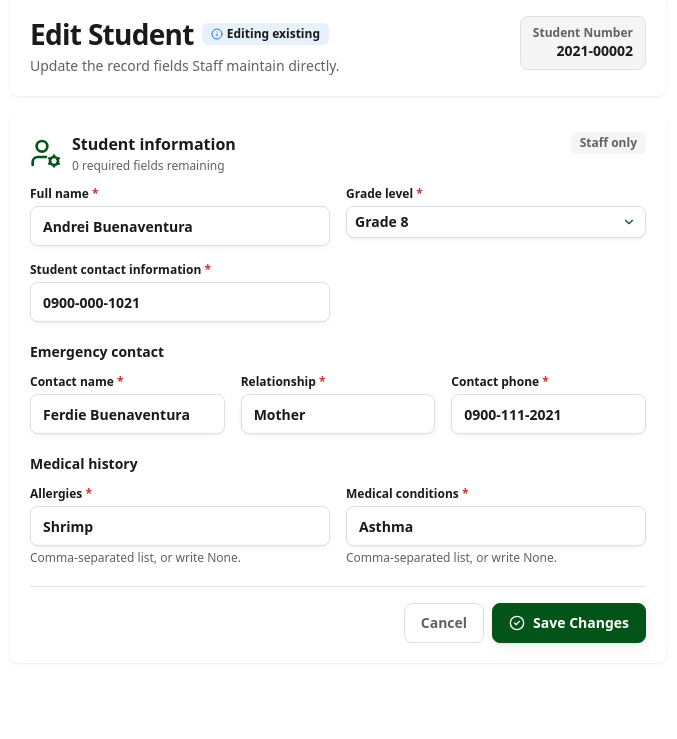
Scenario: Student Form › supports edit mode and records an update audit entry
The width and height of the screenshot is (677, 739).
Check: the heading "Edit Student" is shown, box [30, 16, 194, 52]
Replace the text in the field labelled "Student contact information *" with "09XX-999-0000" at (180, 302), box [30, 282, 330, 322]
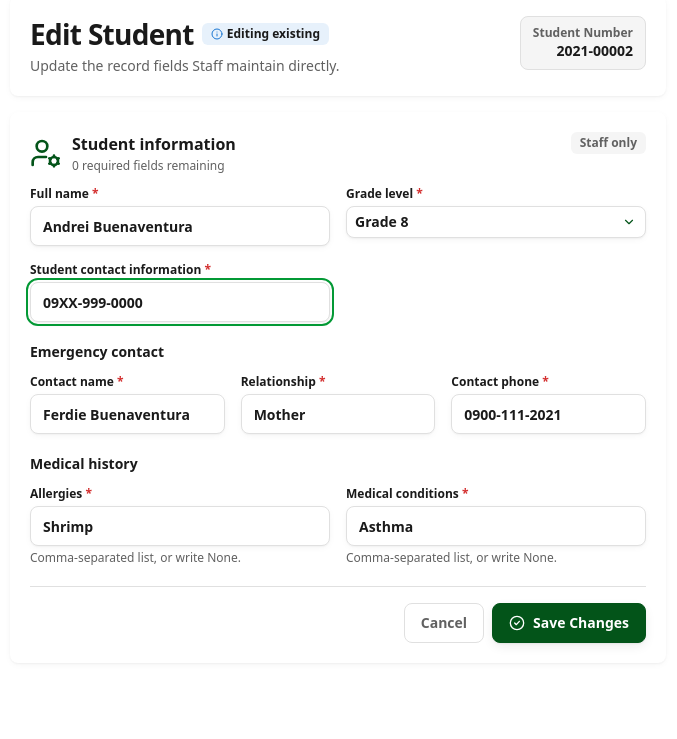
Click the button "Save Changes" at (569, 623), box [492, 603, 646, 643]
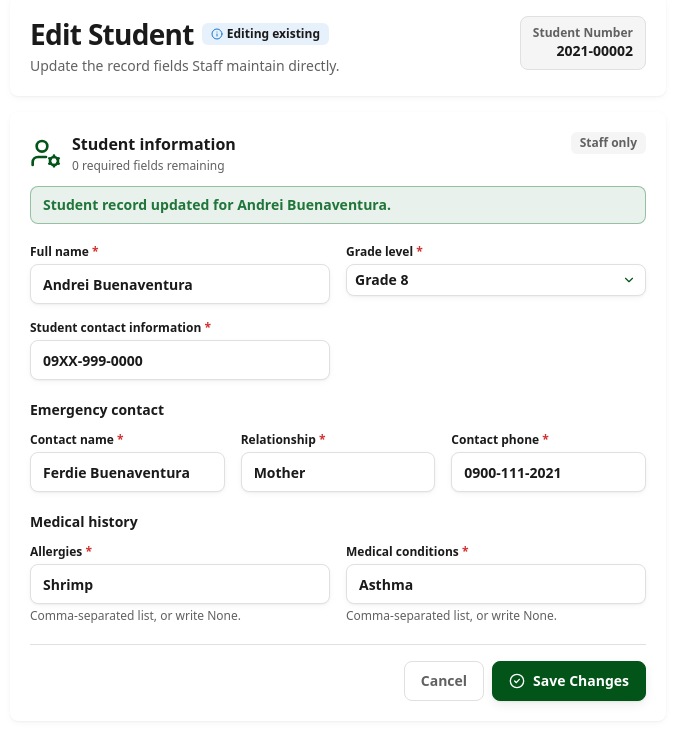
Check: the text "Student record updated for Andrei Buenaventura." is shown, box [30, 186, 646, 224]
